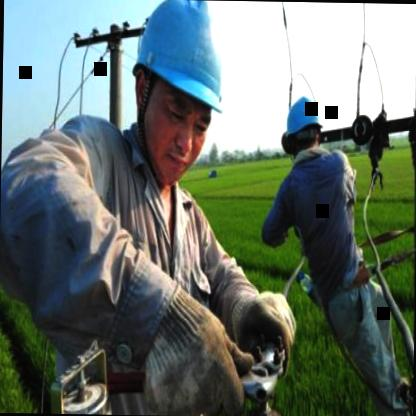helmet: (123, 0, 238, 188), (281, 90, 325, 162)
